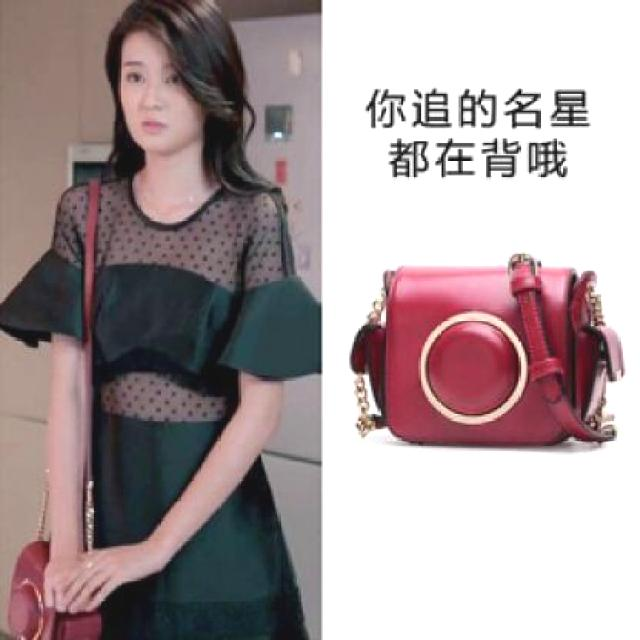face_nomask: (114, 51, 211, 148)
hand_noglove: (44, 546, 154, 611)
head_nohelmet: (109, 3, 242, 45)
person: (3, 0, 312, 640)
